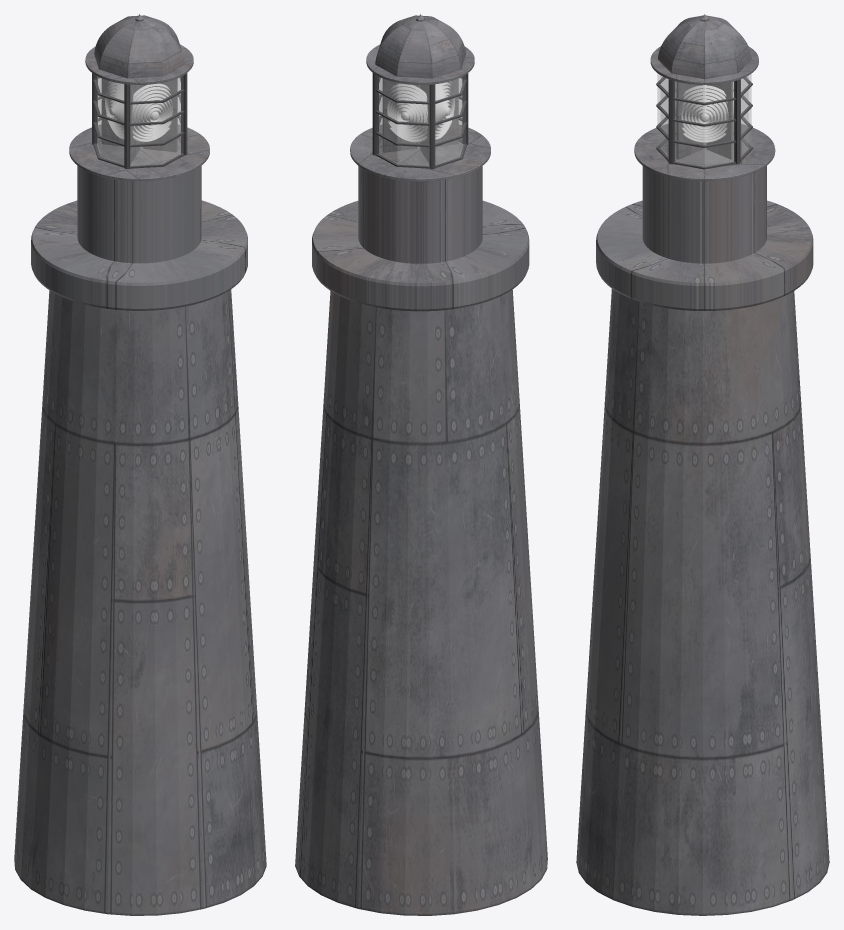
The model's file is panopticon.fbx.
3 renders of one model, left to right at view 1: azimuth 30°, elevation 25°; view 2: azimuth 150°, elevation 25°; view 3: azimuth 270°, elevation 25°, orthographic.
Parts seen in each view (by area): view 1: Cylinder, Base, Glass, Roof, Lens, Supports, Edge, Poles, Top; view 2: Cylinder, Base, Glass, Roof, Lens, Supports, Edge, Poles, Top; view 3: Cylinder, Base, Glass, Roof, Lens, Supports, Edge, Poles, Top.
Boxes of the visible parts, x1=… form: Cylinder: x1=14, y1=289, x2=266, y2=915; Base: x1=31, y1=124, x2=247, y2=310; Glass: x1=95, y1=75, x2=182, y2=165; Roof: x1=94, y1=14, x2=184, y2=78; Lens: x1=105, y1=81, x2=172, y2=142; Supports: x1=101, y1=78, x2=177, y2=163; Edge: x1=93, y1=77, x2=184, y2=168; Poles: x1=92, y1=73, x2=187, y2=168; Top: x1=85, y1=44, x2=193, y2=84; Cylinder: x1=295, y1=289, x2=547, y2=915; Base: x1=312, y1=124, x2=529, y2=311; Glass: x1=377, y1=75, x2=465, y2=166; Roof: x1=375, y1=14, x2=465, y2=78; Lens: x1=387, y1=81, x2=454, y2=142; Supports: x1=382, y1=78, x2=458, y2=163; Edge: x1=375, y1=77, x2=466, y2=168; Poles: x1=372, y1=73, x2=468, y2=169; Top: x1=366, y1=44, x2=474, y2=84; Cylinder: x1=576, y1=289, x2=829, y2=915; Base: x1=596, y1=122, x2=813, y2=310; Glass: x1=657, y1=73, x2=751, y2=166; Roof: x1=658, y1=14, x2=751, y2=79; Lens: x1=675, y1=85, x2=733, y2=142; Supports: x1=676, y1=82, x2=733, y2=159; Edge: x1=656, y1=77, x2=752, y2=169; Poles: x1=668, y1=79, x2=740, y2=164; Top: x1=650, y1=46, x2=758, y2=84.
Bounding box in the file's own units: 1612 × 5959 × 1612.
